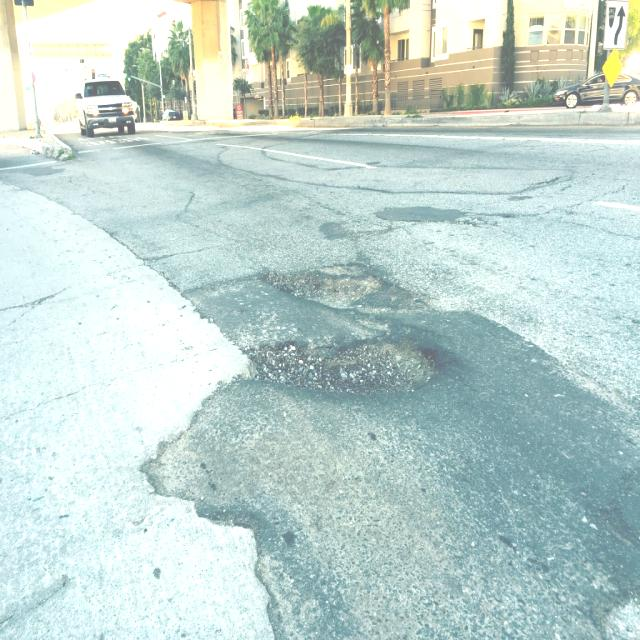Pothole: (242, 311, 449, 419), (262, 264, 400, 318)
